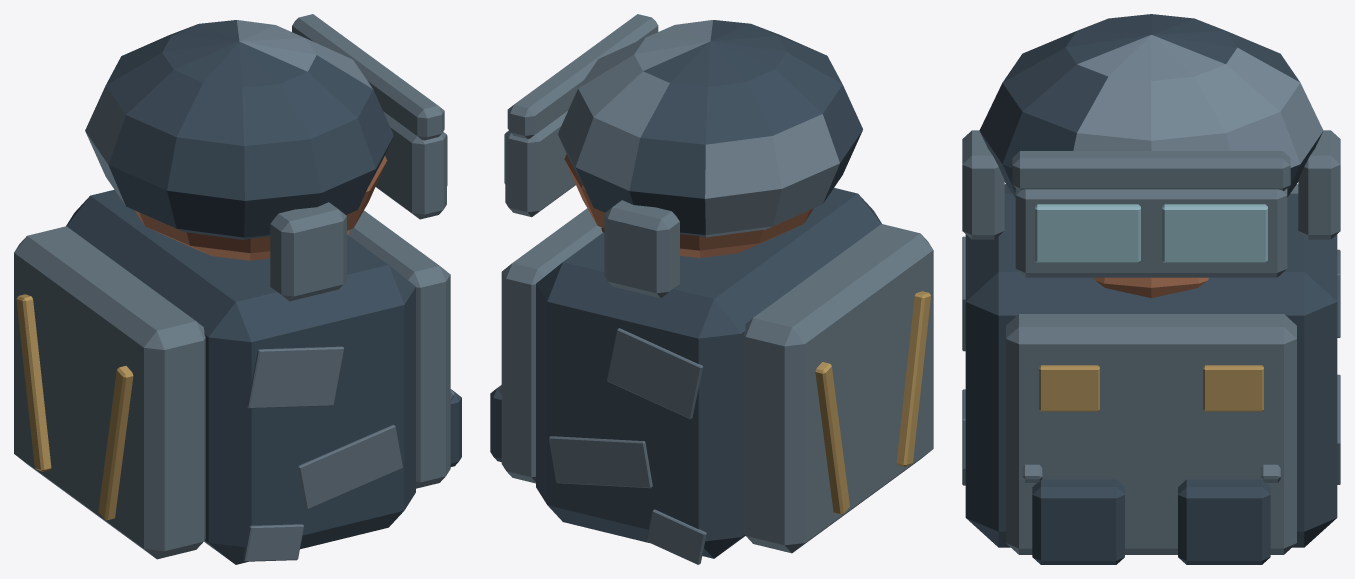
Rendered from ranger-elite.carbon-camo.glb.
3 renders of one model, left to right at view 1: azimuth 30°, elevation 25°; view 2: azimuth 150°, elevation 25°; view 3: azimuth 270°, elevation 25°, orthographic. The views are drawn at different scales.
Parts seen in each view (by area): view 1: ranger-elite_carbon-camo__main__torso_finish_3c4d5b_0.03, ranger-elite_carbon-camo__main__torso_finish_657682_0.03, ranger-elite_carbon-camo__main__head_finish_3c4d5b_0.03|fini, ranger-elite_carbon-camo__main__head_finish_657682_0.03, ranger-elite_carbon-camo__main__torso_finish_60717e_0.03, ranger-elite_carbon-camo__main__torso_finish_b3945b_0.03, ranger-elite_carbon-camo__main__head_finish_9c684e_0.03; view 2: ranger-elite_carbon-camo__main__torso_finish_3c4d5b_0.03, ranger-elite_carbon-camo__main__torso_finish_657682_0.03, ranger-elite_carbon-camo__main__head_finish_3c4d5b_0.03|fini, ranger-elite_carbon-camo__main__head_finish_657682_0.03, ranger-elite_carbon-camo__main__torso_finish_60717e_0.03, ranger-elite_carbon-camo__main__torso_finish_b3945b_0.03, ranger-elite_carbon-camo__main__head_finish_9c684e_0.03; view 3: ranger-elite_carbon-camo__main__torso_finish_3c4d5b_0.03, ranger-elite_carbon-camo__main__torso_finish_657682_0.03, ranger-elite_carbon-camo__main__head_finish_3c4d5b_0.03|fini, ranger-elite_carbon-camo__main__head_finish_657682_0.03, ranger-elite_carbon-camo__main__head_finish_91b6c0_0.03, ranger-elite_carbon-camo__main__torso_finish_b3945b_0.03, ranger-elite_carbon-camo__main__head_finish_9c684e_0.03, ranger-elite_carbon-camo__main__torso_finish_60717e_0.03.
Boxes of the visible parts, left/top/right/bottom form: ranger-elite_carbon-camo__main__torso_finish_3c4d5b_0.03: left=66, top=189, right=461, bottom=564; ranger-elite_carbon-camo__main__torso_finish_657682_0.03: left=14, top=210, right=454, bottom=559; ranger-elite_carbon-camo__main__head_finish_3c4d5b_0.03|fini: left=85, top=20, right=393, bottom=239; ranger-elite_carbon-camo__main__head_finish_657682_0.03: left=270, top=14, right=446, bottom=301; ranger-elite_carbon-camo__main__torso_finish_60717e_0.03: left=243, top=346, right=402, bottom=561; ranger-elite_carbon-camo__main__torso_finish_b3945b_0.03: left=16, top=294, right=133, bottom=520; ranger-elite_carbon-camo__main__head_finish_9c684e_0.03: left=135, top=155, right=387, bottom=260; ranger-elite_carbon-camo__main__torso_finish_3c4d5b_0.03: left=490, top=188, right=881, bottom=558; ranger-elite_carbon-camo__main__torso_finish_657682_0.03: left=497, top=208, right=933, bottom=553; ranger-elite_carbon-camo__main__head_finish_3c4d5b_0.03|fini: left=558, top=20, right=862, bottom=237; ranger-elite_carbon-camo__main__head_finish_657682_0.03: left=505, top=14, right=679, bottom=298; ranger-elite_carbon-camo__main__torso_finish_60717e_0.03: left=549, top=328, right=706, bottom=564; ranger-elite_carbon-camo__main__torso_finish_b3945b_0.03: left=815, top=291, right=930, bottom=514; ranger-elite_carbon-camo__main__head_finish_9c684e_0.03: left=564, top=154, right=813, bottom=257; ranger-elite_carbon-camo__main__torso_finish_3c4d5b_0.03: left=965, top=193, right=1337, bottom=564; ranger-elite_carbon-camo__main__torso_finish_657682_0.03: left=1004, top=184, right=1298, bottom=554; ranger-elite_carbon-camo__main__head_finish_3c4d5b_0.03|fini: left=979, top=14, right=1323, bottom=197; ranger-elite_carbon-camo__main__head_finish_657682_0.03: left=962, top=130, right=1340, bottom=277; ranger-elite_carbon-camo__main__head_finish_91b6c0_0.03: left=1035, top=204, right=1267, bottom=262; ranger-elite_carbon-camo__main__torso_finish_b3945b_0.03: left=1039, top=365, right=1263, bottom=411; ranger-elite_carbon-camo__main__head_finish_9c684e_0.03: left=1094, top=277, right=1208, bottom=298; ranger-elite_carbon-camo__main__torso_finish_60717e_0.03: left=962, top=236, right=1340, bottom=485.
Size of the model in its own units: 31.1 by 39.5 by 28.6.
